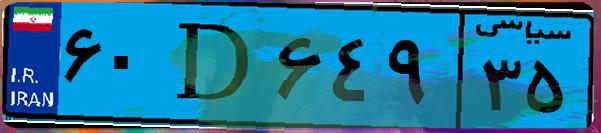0: (110, 28, 158, 98)
3: (475, 38, 525, 113)
4: (330, 28, 385, 110)
5: (525, 38, 570, 115)
6: (270, 28, 330, 110), (57, 26, 110, 100)
9: (385, 28, 445, 110)
D: (158, 12, 270, 120)
